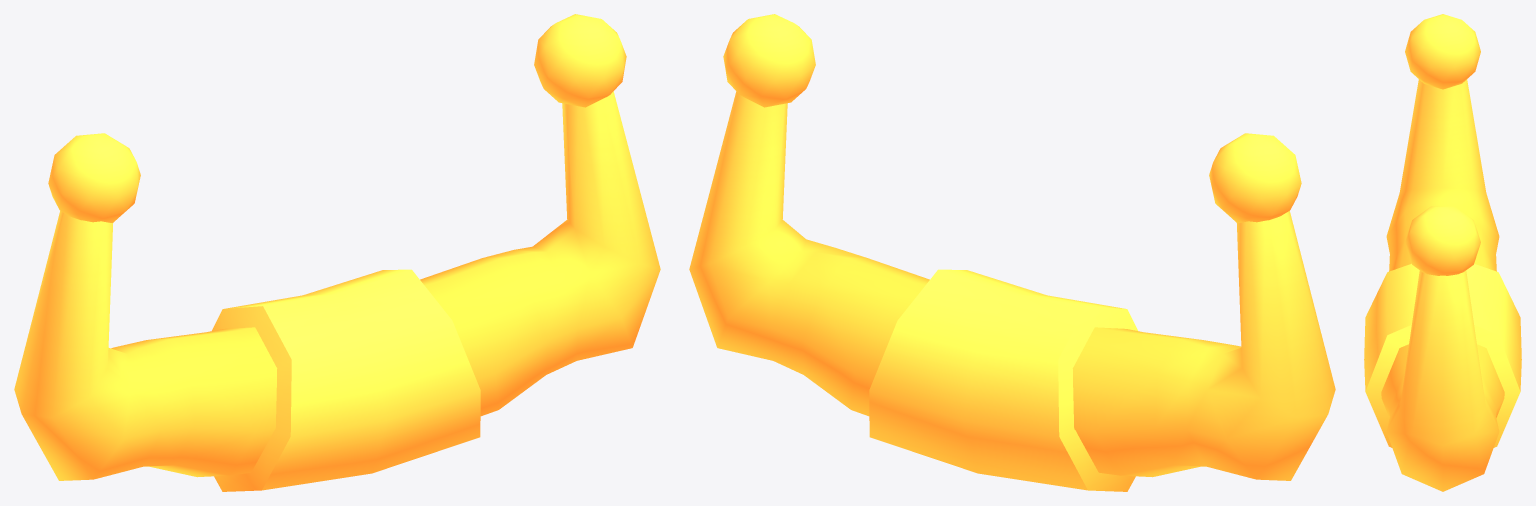
Rendered from gold_guard_004.glb.
3 views of the same model, side by side, from view 1: azimuth 30°, elevation 25°; view 2: azimuth 150°, elevation 25°; view 3: azimuth 270°, elevation 25° (orthographic). The views are drawn at different scales.
Visible parts, largest first — view 1: gold_guard_004; view 2: gold_guard_004; view 3: gold_guard_004.
Part boxes in pixels (x1,y1,x2,y2): gold_guard_004: [14, 14, 660, 491]; gold_guard_004: [689, 14, 1335, 491]; gold_guard_004: [1364, 14, 1521, 491].
Size of the model in its own units: 6.99 by 4.2 by 1.88.
Materials: 1 (1 with a texture image).
